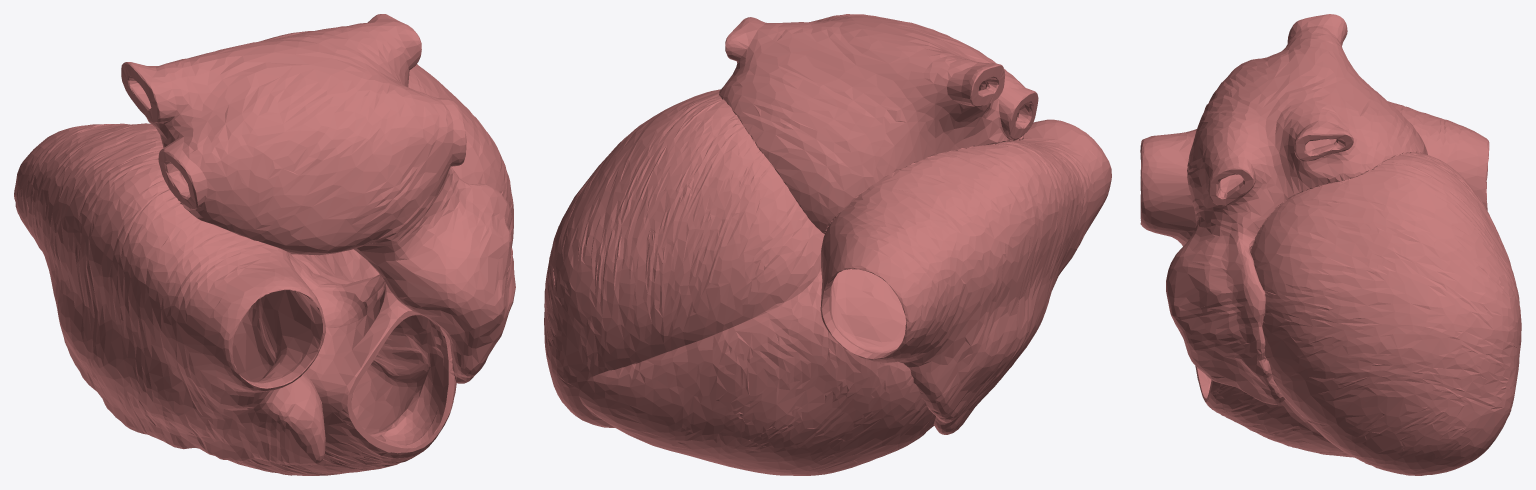
File: coeur.glb
3 views of the same model, side by side, from view 1: azimuth 30°, elevation 25°; view 2: azimuth 150°, elevation 25°; view 3: azimuth 270°, elevation 25° (orthographic). The views are drawn at different scales.
Parts seen in each view (by area): view 1: world; view 2: world; view 3: world.
Boxes of the visible parts, left/top/right/bottom form: world: left=14, top=14, right=515, bottom=475; world: left=544, top=14, right=1111, bottom=475; world: left=1140, top=14, right=1521, bottom=475.
Size of the model in its own units: 2 by 1.9 by 1.82.
